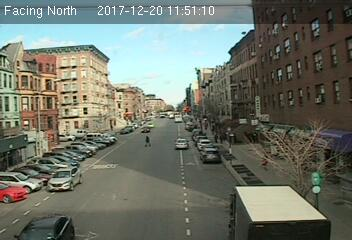car: (46, 166, 83, 192), (200, 147, 222, 165), (174, 137, 188, 149)
pedestrian: (143, 136, 152, 149)
ups: (226, 183, 329, 240)
